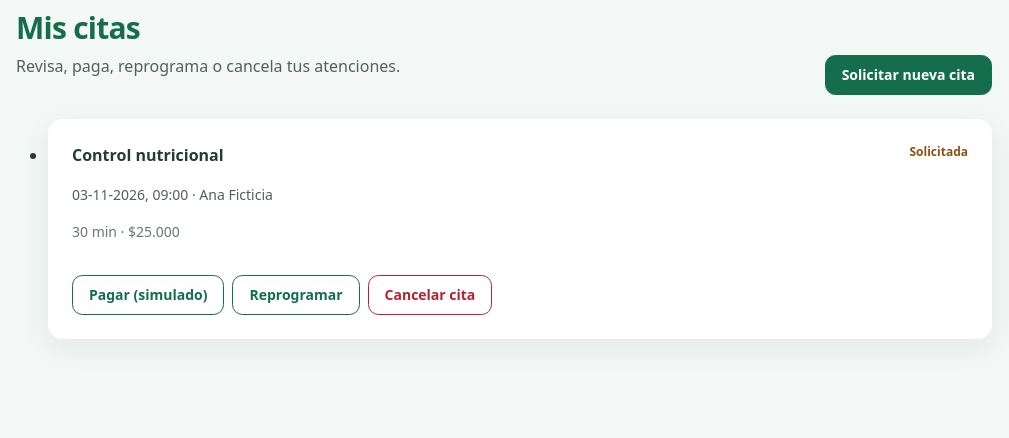
Test case: Mis citas del paciente › muestra el error del backend cuando una acción es rechazada
Click the button "Cancelar cita" at (430, 295), box 368,275 -> 492,315
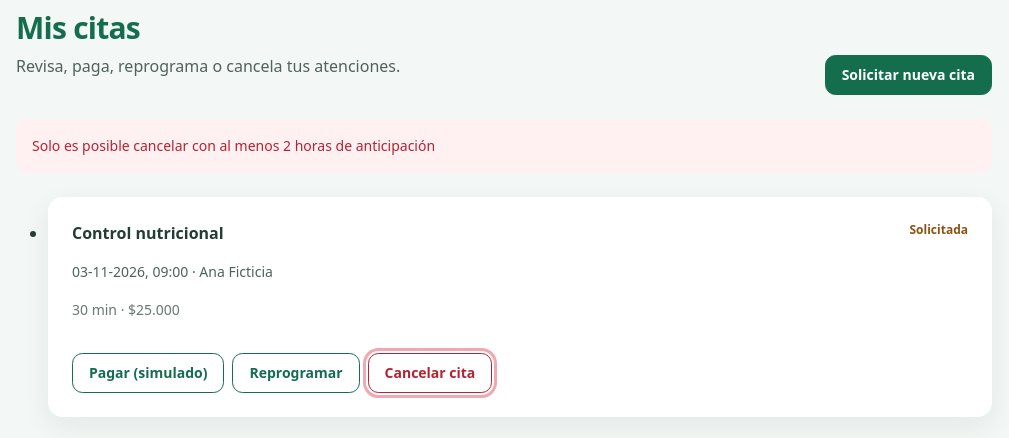
Now the text "Solo es posible cancelar con al menos 2 horas de anticipación" is shown, box 16,119 -> 992,173
